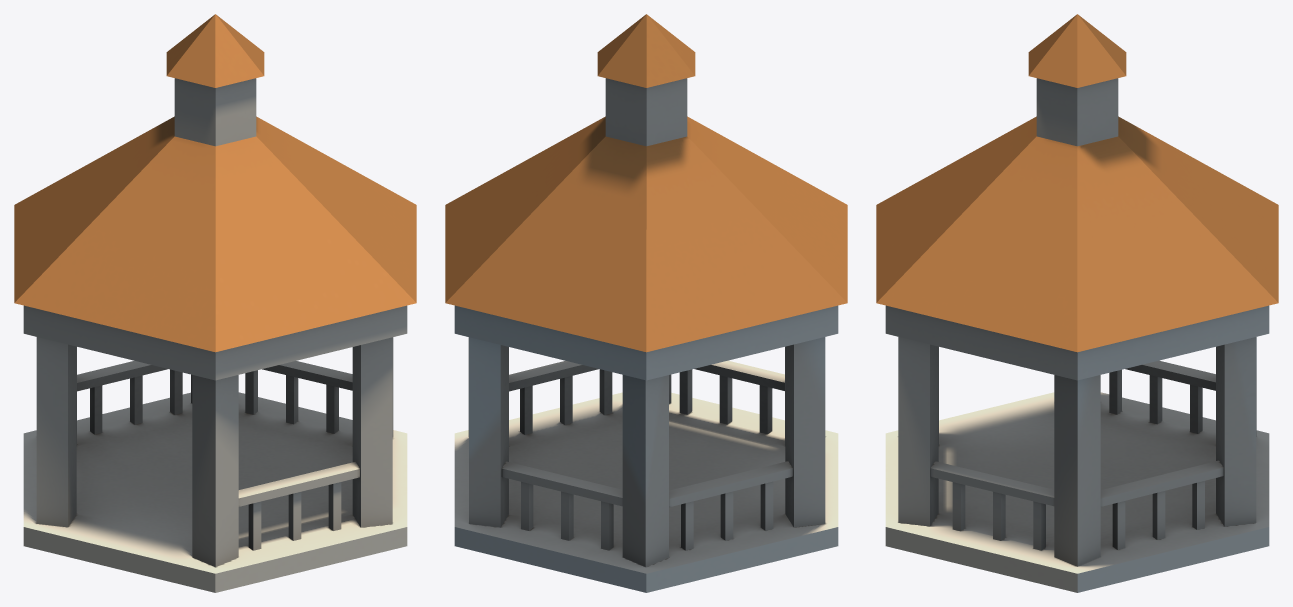
The model's file is gazebo.fbx.
The picture shows the model from 3 angles, left to right: view 1: azimuth 30°, elevation 25°; view 2: azimuth 150°, elevation 25°; view 3: azimuth 270°, elevation 25°; orthographic projection.
Parts seen in each view (by area): view 1: gazebo; view 2: gazebo; view 3: gazebo.
Part boxes in pixels (<box>): gazebo: <box>14,14,416,592</box>; gazebo: <box>445,14,847,592</box>; gazebo: <box>876,14,1278,592</box>.
Bounding box in the file's own units: 189 × 218 × 164.
Materials: 1 (1 with a texture image).
